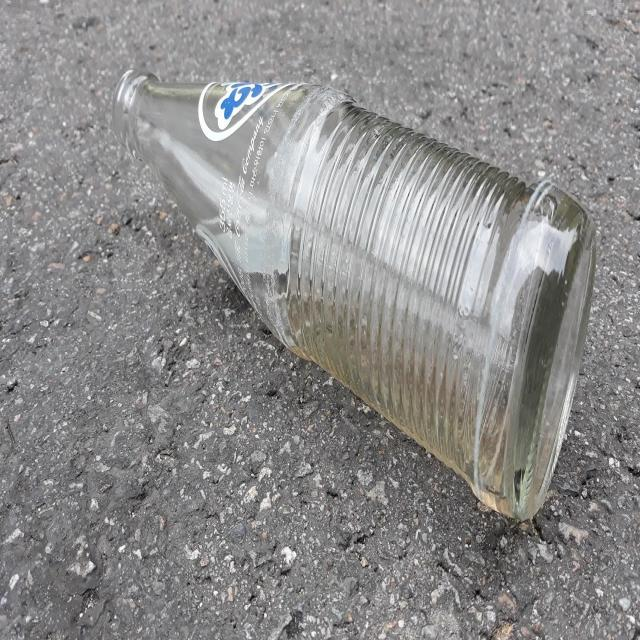glass: (112, 70, 597, 519)
